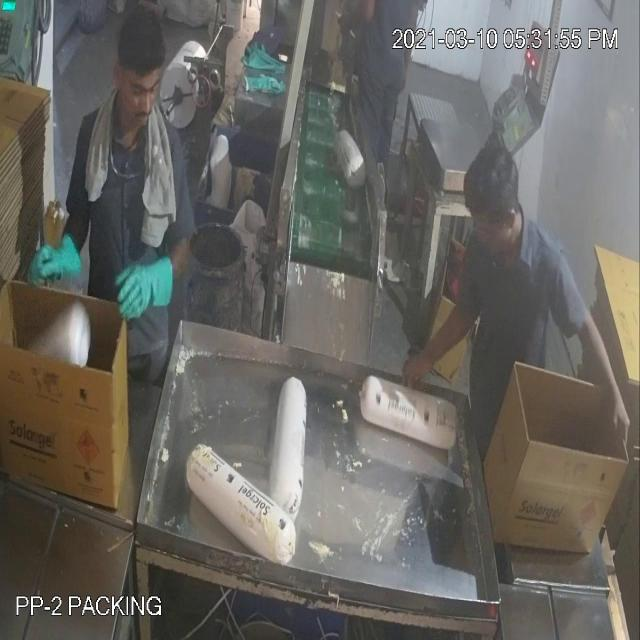gloves: (114, 246, 178, 324), (24, 223, 83, 298)
no-gloves: (384, 272, 488, 407), (566, 287, 634, 453)
